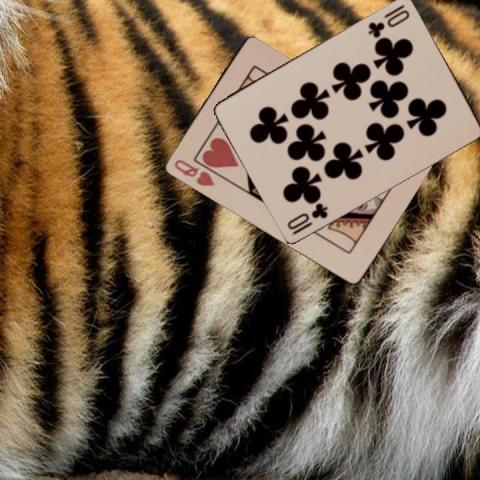10c: (365, 1, 411, 39), (284, 199, 330, 236)
Qh: (171, 156, 216, 188)
